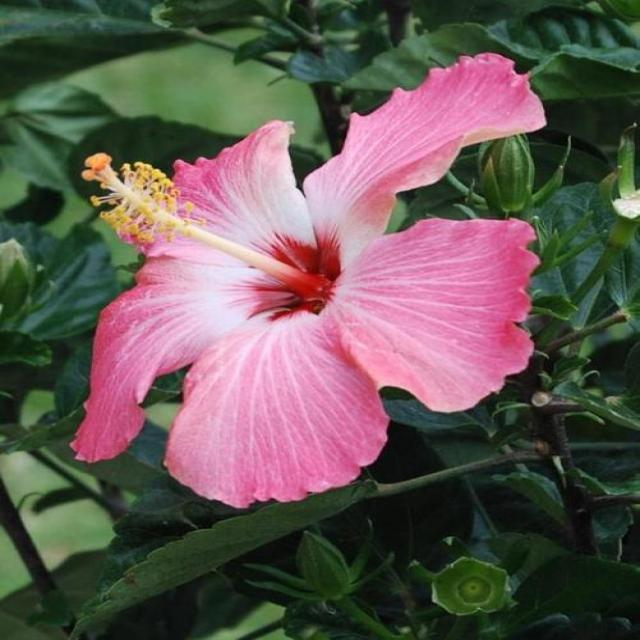hibiscus: (54, 13, 596, 530)
